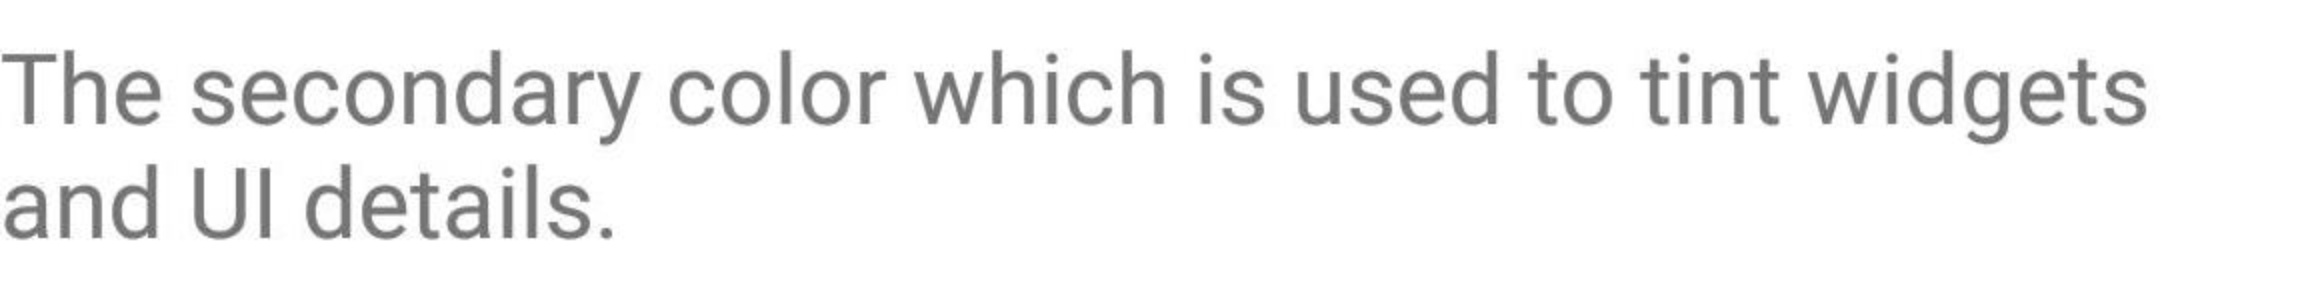TextView: (1, 1, 2311, 285)
